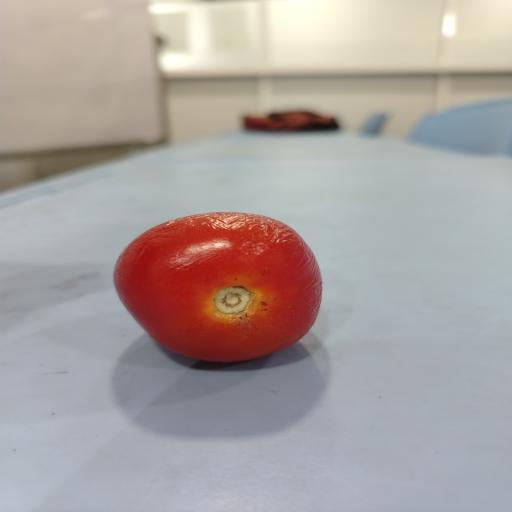spoiled: (114, 212, 322, 362)
